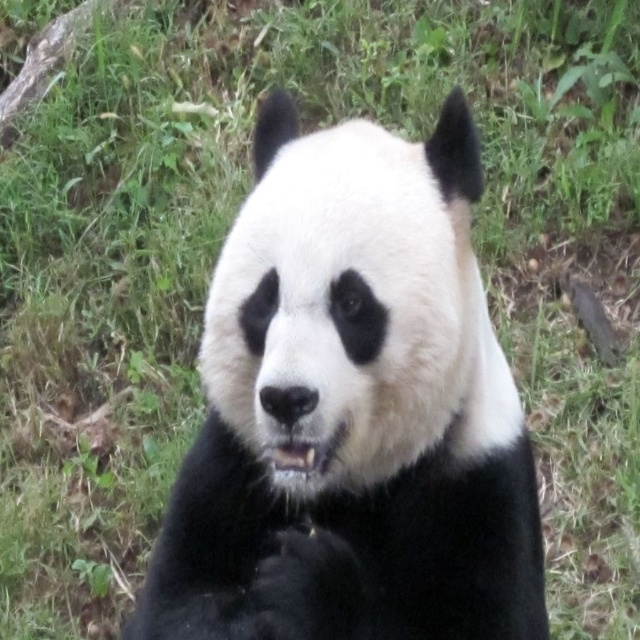Panda: (122, 81, 550, 636)
